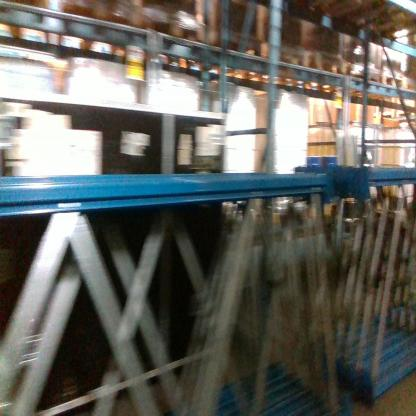pallet: (135, 4, 211, 68), (57, 0, 138, 58), (210, 24, 273, 81), (349, 69, 381, 90), (381, 73, 409, 91)
